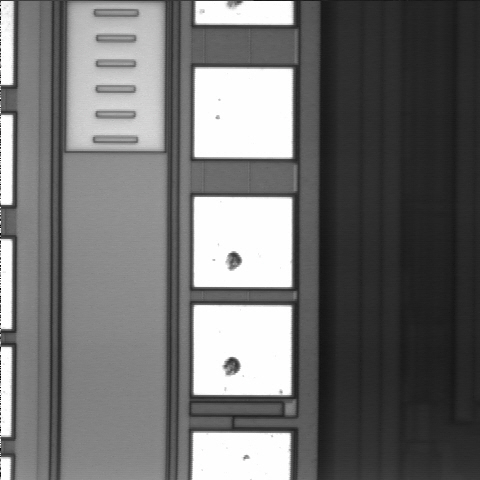pad: (196, 67, 293, 159), (193, 305, 292, 395), (194, 197, 292, 287)
